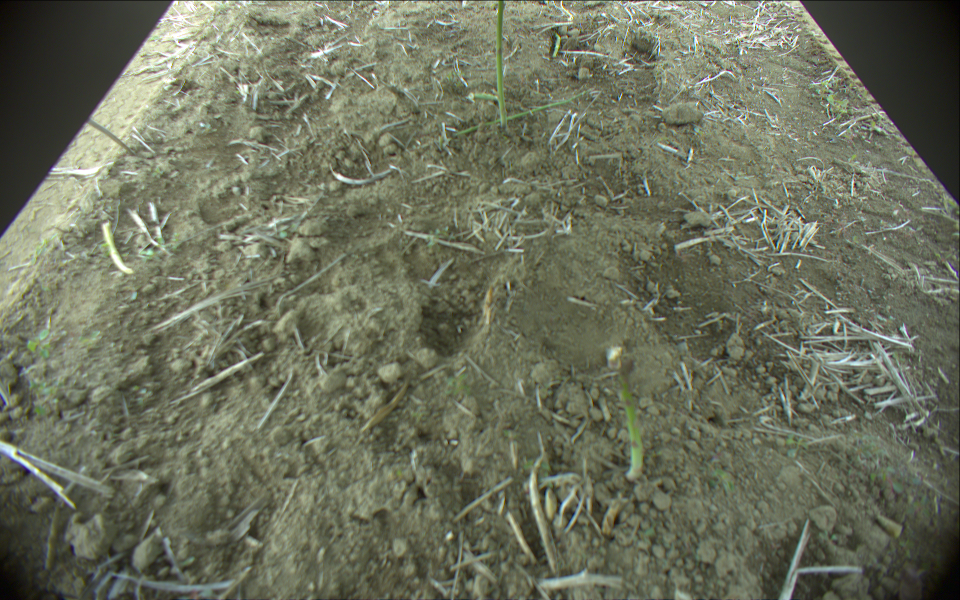aspa: (451, 89, 596, 139), (615, 369, 647, 482), (493, 1, 508, 129), (101, 221, 134, 274), (468, 90, 502, 102)
